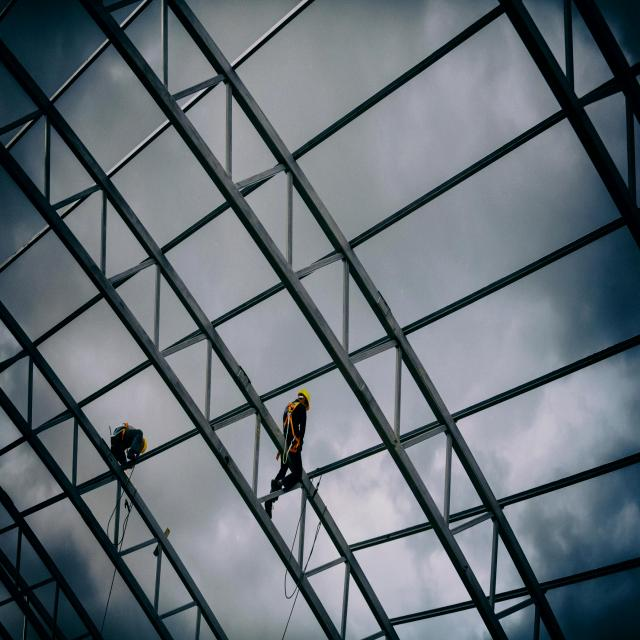head_helmet: (297, 388, 311, 407), (142, 438, 147, 454)
person: (265, 387, 312, 519), (107, 423, 149, 465)
